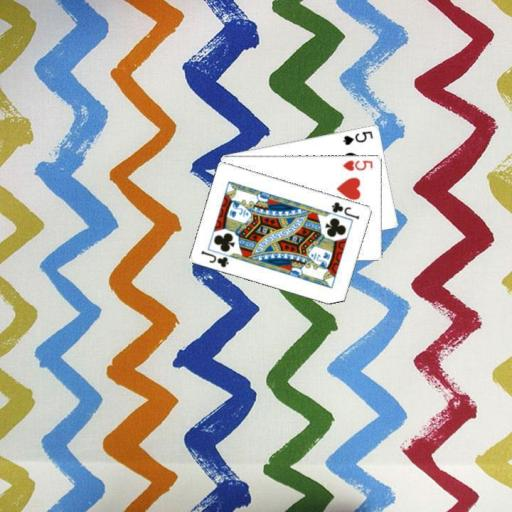card-corner: (329, 198, 361, 220), (198, 247, 230, 269), (340, 128, 375, 146), (340, 157, 374, 172)
